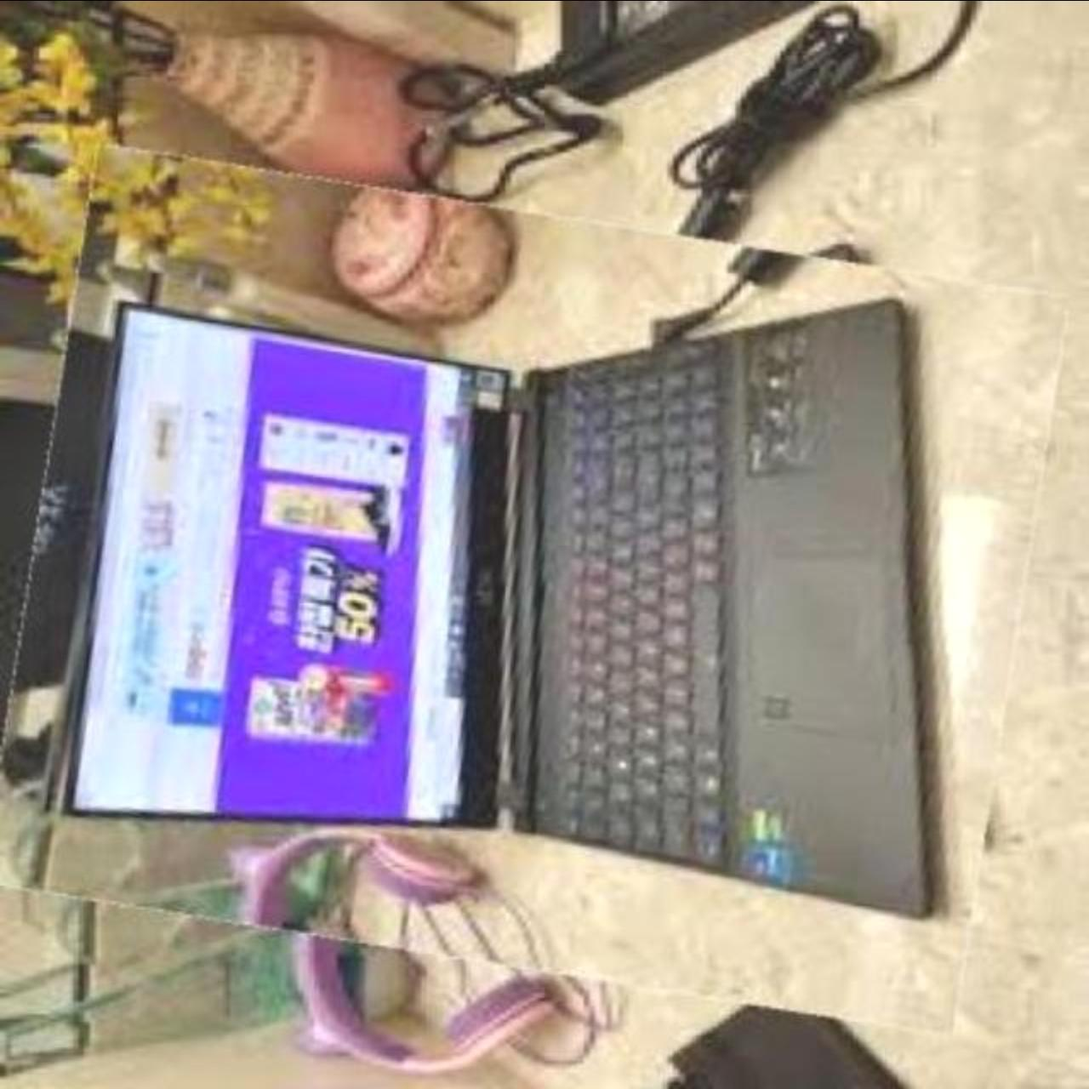laptop: (8, 180, 1041, 998)
